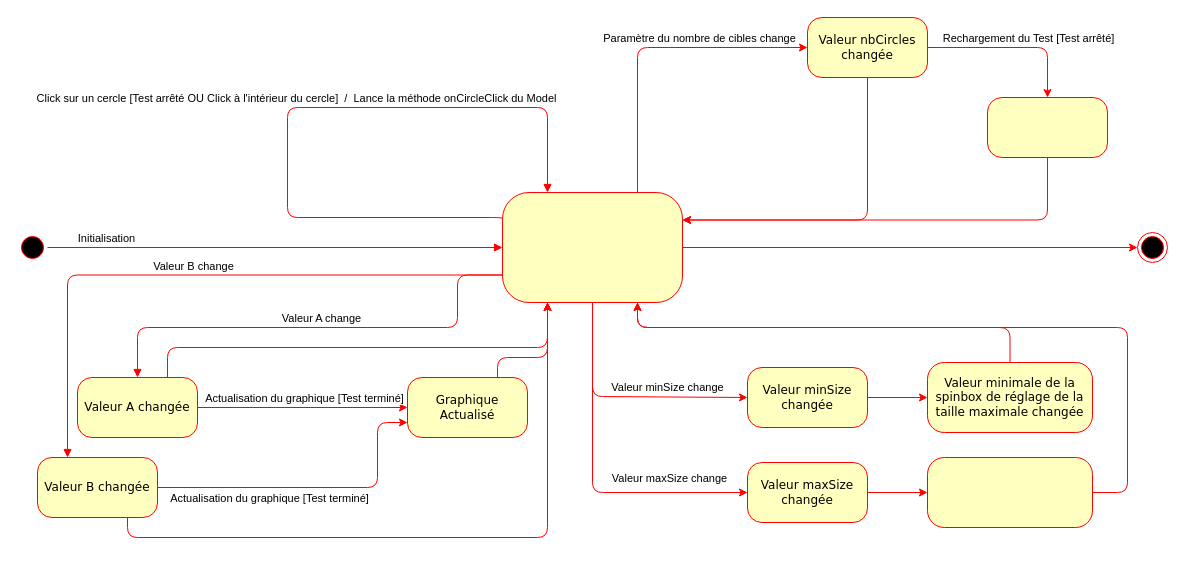
Some shapes in this 1185 by 563 pixel diagram are drawn without their labels. The shapes that lost their labels are listed below. From the top down, each one's centre as x and y in pixels, then its label:
At (x=1047, y=127): "Test rechargé".
At (x=592, y=247): "Attente".
At (x=1009, y=492): "Valeur minimale de la spinbox de réglage de la taille minimale changée".
